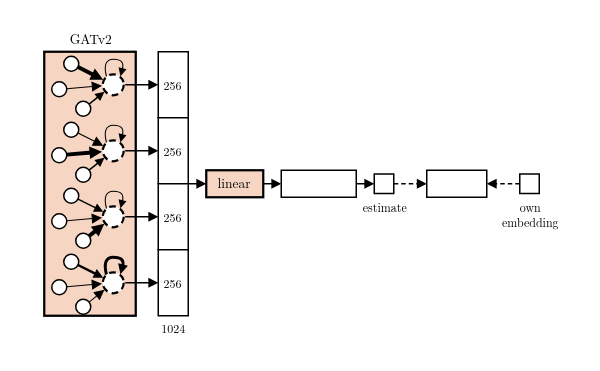
Image size: 600x371. Some labels were removed from this diagram. The shapes that lost their labels are listed below. From the top down, each one's box as (x1, y1, x2, y2) in pixels, then its label:
(280, 169, 356, 197): normalise
(425, 169, 487, 197): 1 − cos
